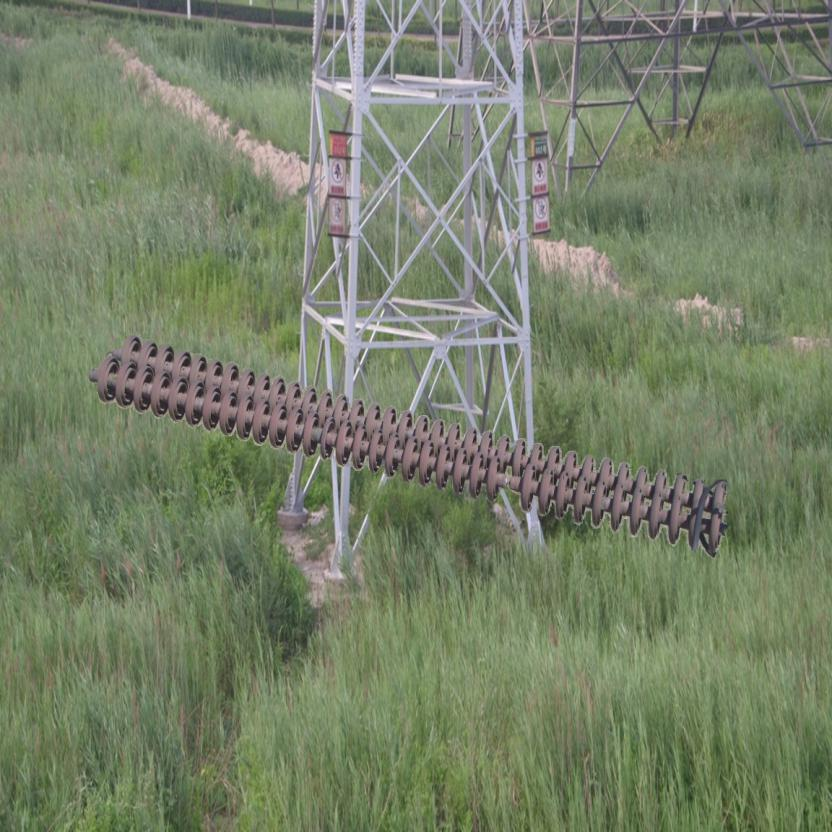defect: (480, 451, 538, 511)
